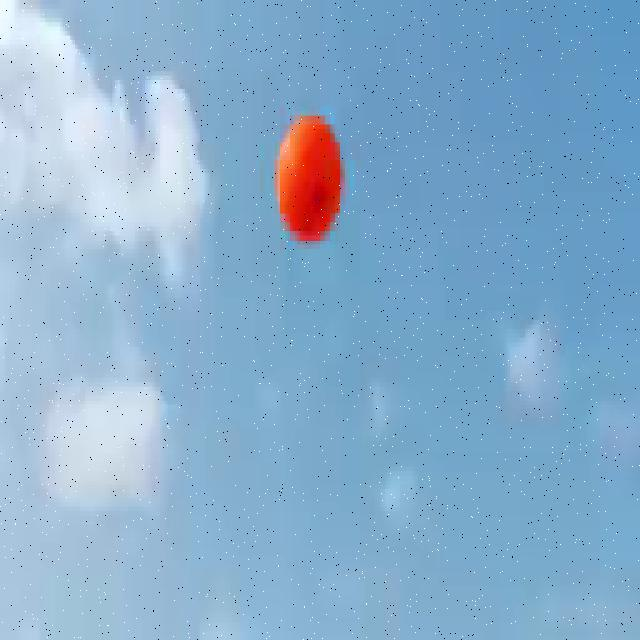red: (274, 113, 342, 243)
